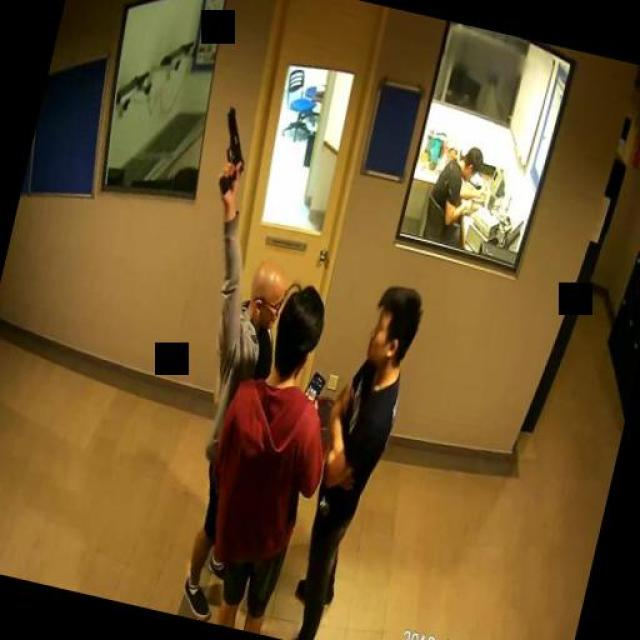gun: (210, 102, 255, 194)
